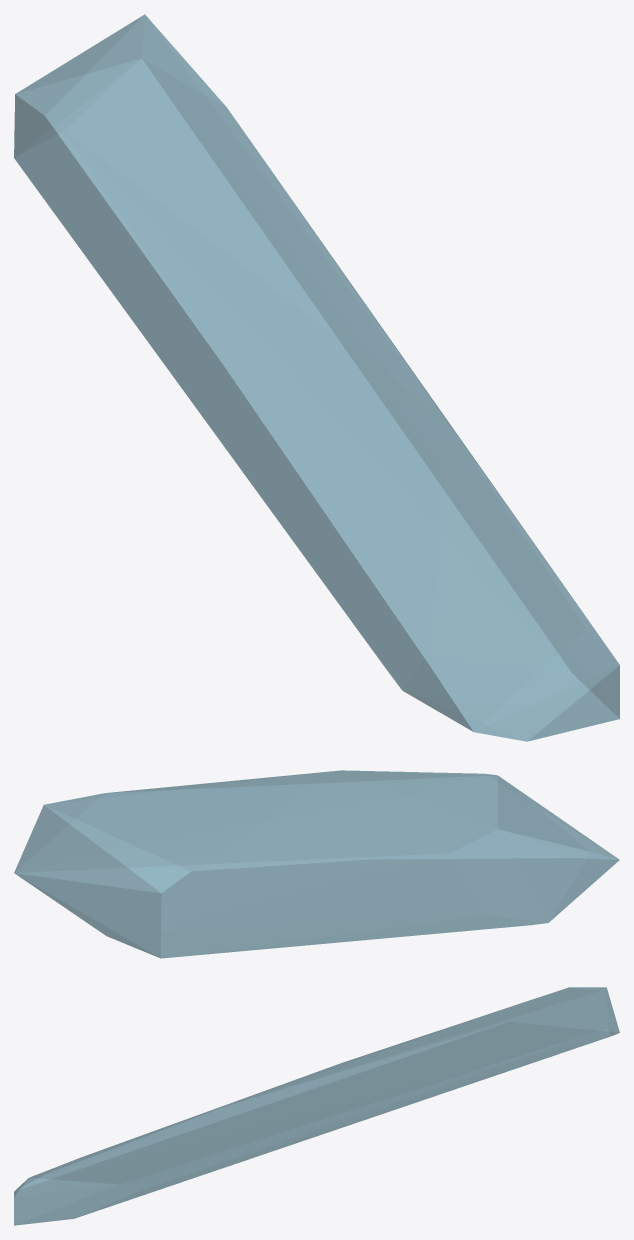
The picture shows the model from 3 angles, top to bottom: view 1: azimuth 30°, elevation 25°; view 2: azimuth 150°, elevation 25°; view 3: azimuth 270°, elevation 25°; orthographic projection. The views are drawn at different scales.
Visible parts, largest first — view 1: Shape_IndexedFaceSet.052_Shape_IndexedFaceSet.9860; view 2: Shape_IndexedFaceSet.052_Shape_IndexedFaceSet.9860; view 3: Shape_IndexedFaceSet.052_Shape_IndexedFaceSet.9860.
Boxes of the visible parts, bbox=[...] form: Shape_IndexedFaceSet.052_Shape_IndexedFaceSet.9860: bbox=[14, 14, 619, 741]; Shape_IndexedFaceSet.052_Shape_IndexedFaceSet.9860: bbox=[14, 770, 619, 958]; Shape_IndexedFaceSet.052_Shape_IndexedFaceSet.9860: bbox=[14, 987, 619, 1225].
Bounding box in the file's own units: 0.0756 × 0.1931 × 0.4586.
